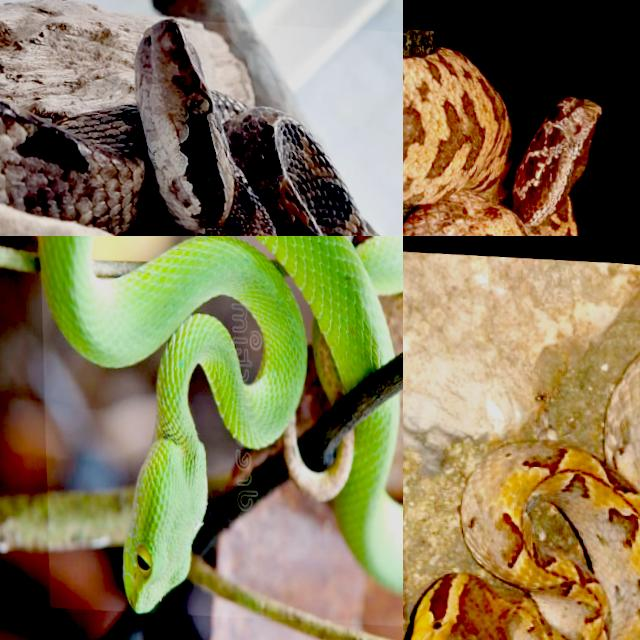Calloselasma rhodostoma: (0, 18, 377, 235), (411, 354, 639, 639)
Ovophis monticola: (403, 48, 600, 235)
Trimeresurus: (39, 236, 305, 610)
